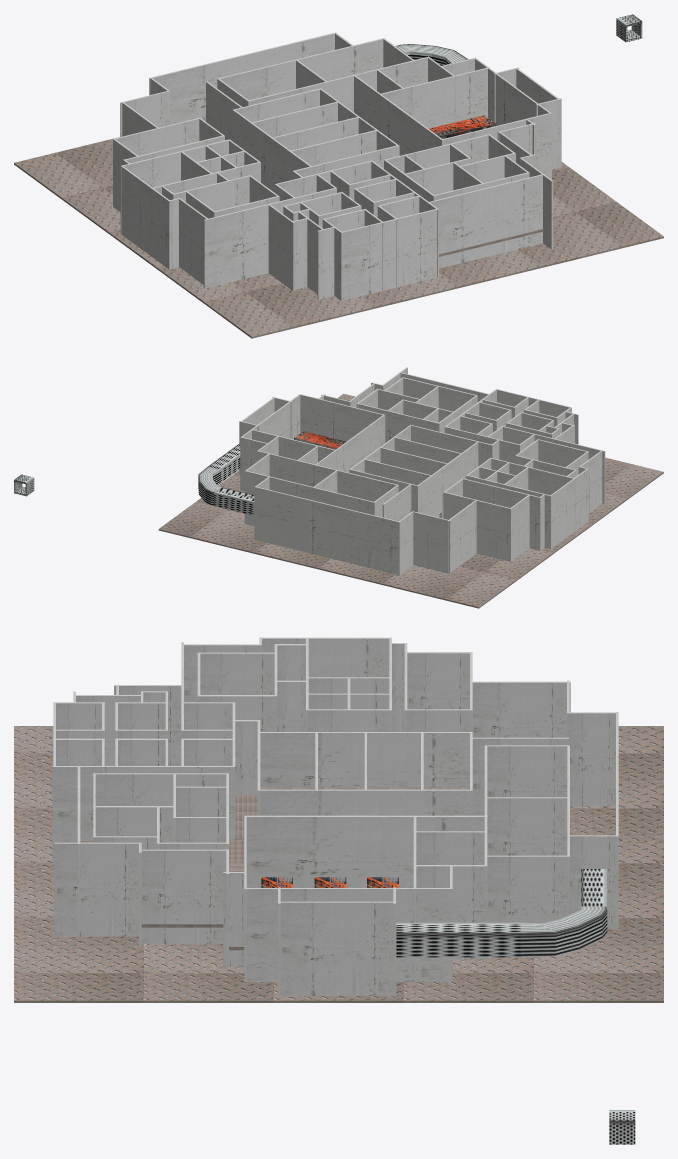
File: Map_Medical.glb
3 renders of one model, top to bottom at view 1: azimuth 30°, elevation 25°; view 2: azimuth 150°, elevation 25°; view 3: azimuth 270°, elevation 25°, orthographic. The views are drawn at different scales.
Parts seen in each view (by area): view 1: Floor-col, Wall.077-col, Wall.033-col, Wall.026-col, Wall.061-col, Wall.052-col, Wall.050-col, Wall.015-col, Wall.047-col, Wall.007-col, Wall.051-col, Wall.009-col (+45 smaller); view 2: Floor-col, Wall.061-col, Wall.051-col, Wall.048-col, Wall.003-col, Wall.007-col, Wall.015-col, Wall.059-col, Wall.052-col, Wall.008-col, Wall.047-col, Wall.058-col (+34 smaller); view 3: Floor-col, Wall.047-col, Wall.007-col, Wall.063-col, Wall.049-col, Wall.078-col, Wall.079-col, Grate-col, Wall.001-col, Wall.058-col, Wall.055-col, Wall.054-col (+36 smaller).
Part boxes in pixels (x1=…): Floor-col: x1=14, y1=137, x2=663, y2=338; Wall.077-col: x1=428, y1=174, x2=545, y2=268; Wall.033-col: x1=341, y1=209, x2=437, y2=300; Wall.026-col: x1=203, y1=187, x2=336, y2=288; Wall.061-col: x1=149, y1=32, x2=336, y2=124; Wall.052-col: x1=218, y1=38, x2=384, y2=100; Wall.050-col: x1=379, y1=67, x2=487, y2=131; Wall.015-col: x1=121, y1=166, x2=170, y2=269; Wall.047-col: x1=353, y1=75, x2=442, y2=155; Wall.007-col: x1=232, y1=109, x2=311, y2=192; Wall.051-col: x1=248, y1=56, x2=429, y2=111; Wall.009-col: x1=120, y1=139, x2=229, y2=234; Floor-col: x1=158, y1=393, x2=663, y2=608; Wall.061-col: x1=254, y1=486, x2=400, y2=575; Wall.051-col: x1=257, y1=451, x2=397, y2=501; Wall.048-col: x1=299, y1=394, x2=385, y2=443; Wall.003-col: x1=443, y1=492, x2=511, y2=561; Wall.007-col: x1=416, y1=442, x2=478, y2=518; Wall.015-col: x1=550, y1=468, x2=587, y2=548; Wall.059-col: x1=412, y1=511, x2=450, y2=573; Wall.052-col: x1=244, y1=470, x2=374, y2=525; Wall.008-col: x1=462, y1=478, x2=540, y2=550; Wall.047-col: x1=314, y1=414, x2=384, y2=485; Wall.058-col: x1=447, y1=500, x2=476, y2=573; Floor-col: x1=14, y1=726, x2=663, y2=1002; Wall.047-col: x1=245, y1=815, x2=487, y2=887; Wall.007-col: x1=258, y1=732, x2=472, y2=787; Wall.063-col: x1=279, y1=901, x2=396, y2=995; Wall.049-col: x1=245, y1=888, x2=452, y2=981; Wall.078-col: x1=54, y1=842, x2=140, y2=936; Wall.079-col: x1=141, y1=849, x2=226, y2=943; Grate-col: x1=396, y1=906, x2=607, y2=957; Wall.001-col: x1=258, y1=789, x2=472, y2=815; Wall.058-col: x1=472, y1=681, x2=570, y2=737; Wall.055-col: x1=487, y1=855, x2=567, y2=923; Wall.054-col: x1=487, y1=797, x2=567, y2=855.
Bounding box in the file's own units: 148 × 27.25 × 100.
Materials: 5 (5 with a texture image).
